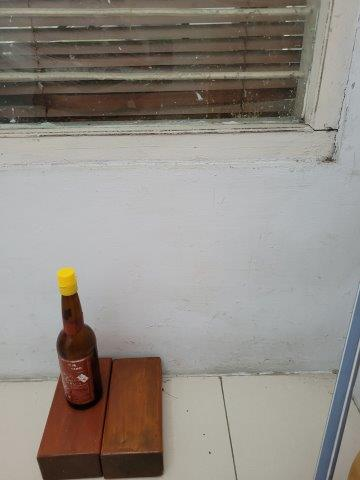botolkaca: (56, 266, 104, 412)
